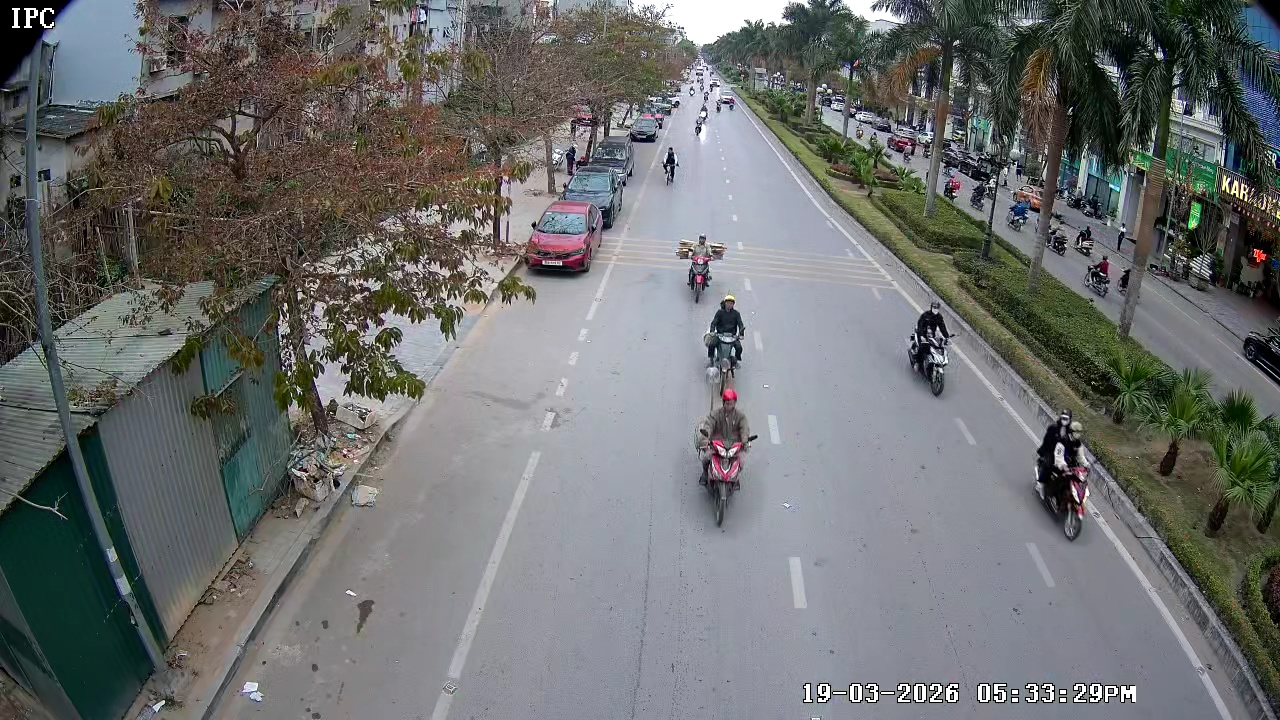bike: (660, 143, 679, 187)
car: (524, 200, 597, 277)
motorbike: (692, 384, 758, 526), (1032, 406, 1091, 540), (906, 294, 956, 397), (701, 292, 748, 389), (677, 223, 728, 308), (695, 117, 705, 137)
